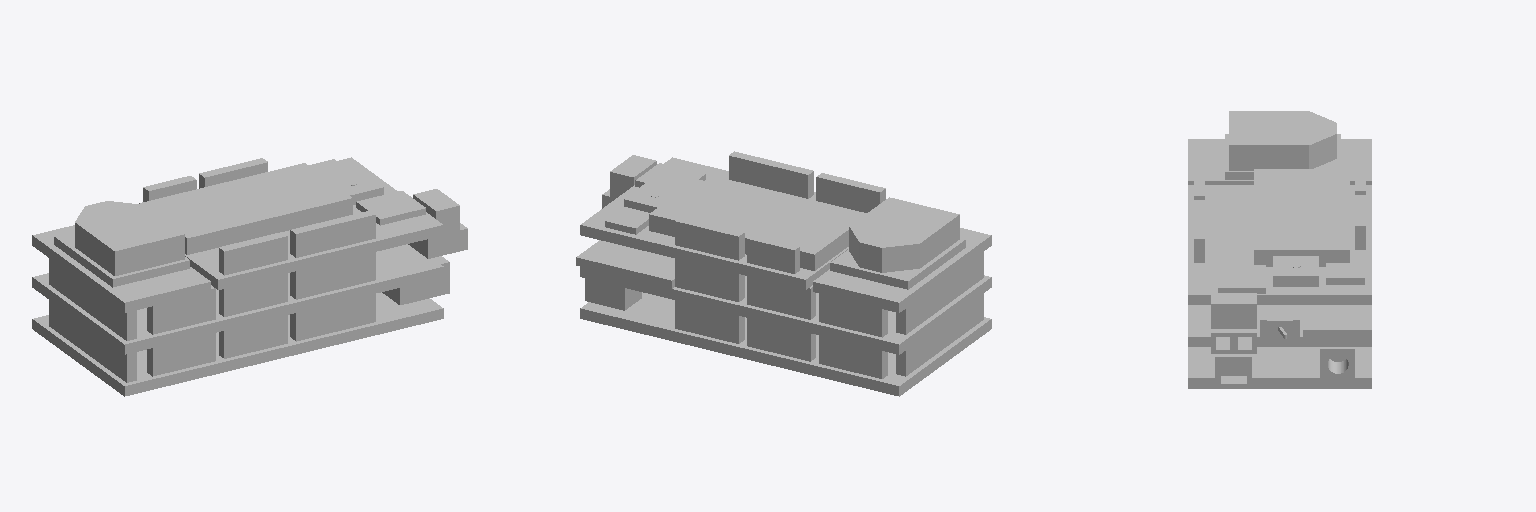
The picture shows the model from 3 angles: view 1: azimuth 30°, elevation 25°; view 2: azimuth 150°, elevation 25°; view 3: azimuth 270°, elevation 25°; orthographic projection.
Visible parts, largest first — view 1: boardmodel; view 2: boardmodel; view 3: boardmodel.
Boxes of the visible parts, x1=… form: boardmodel: x1=32, y1=157, x2=467, y2=396; boardmodel: x1=576, y1=151, x2=991, y2=396; boardmodel: x1=1188, y1=111, x2=1371, y2=388.
Size of the model in its own units: 9.01 by 3.09 by 4.05.